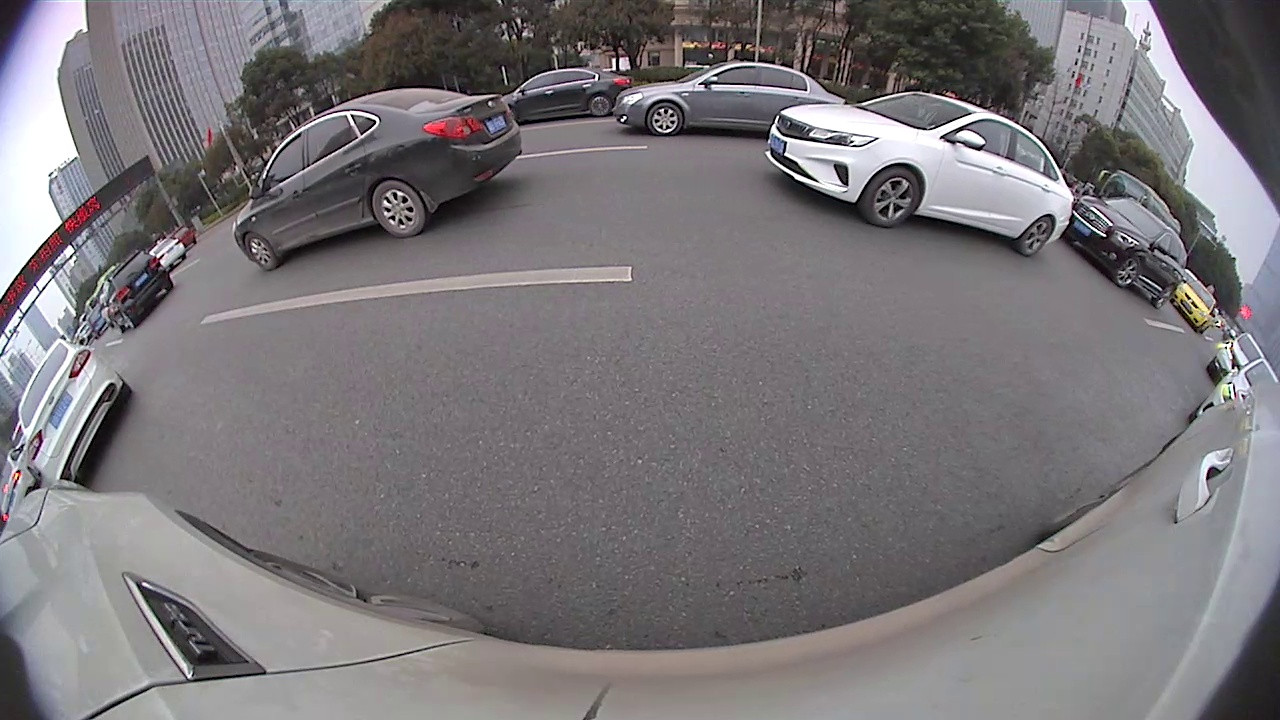car: (231, 86, 523, 276), (763, 86, 1073, 261), (613, 57, 856, 140), (9, 339, 133, 489), (1062, 190, 1191, 310), (498, 59, 636, 127), (102, 244, 174, 335)
front: (863, 165, 922, 227), (243, 231, 278, 273), (647, 102, 683, 139), (1112, 254, 1142, 288)
rear: (373, 179, 428, 239), (1021, 217, 1053, 258), (588, 93, 611, 118), (1155, 284, 1174, 310)
